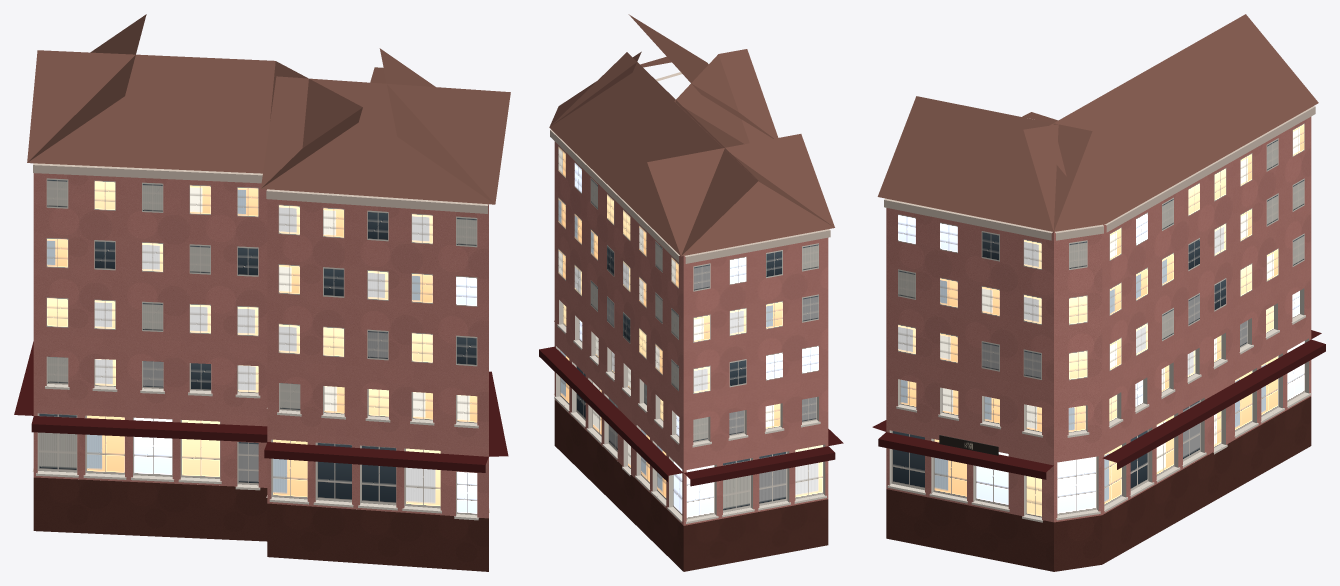
File: langB_gotthard.glb
3 renders of one model, left to right at view 1: azimuth 30°, elevation 25°; view 2: azimuth 150°, elevation 25°; view 3: azimuth 270°, elevation 25°, orthographic. The views are drawn at different scales.
Parts seen in each view (by area): view 1: langB_gotthard; view 2: langB_gotthard; view 3: langB_gotthard.
Boxes of the visible parts, box(x1,y1,x2,y2) form: langB_gotthard: box(14, 14, 510, 571); langB_gotthard: box(539, 14, 843, 571); langB_gotthard: box(872, 14, 1325, 571).
Bounding box in the file's own units: 23.6 × 24.74 × 24.91.
Materials: 3 (3 with a texture image).
